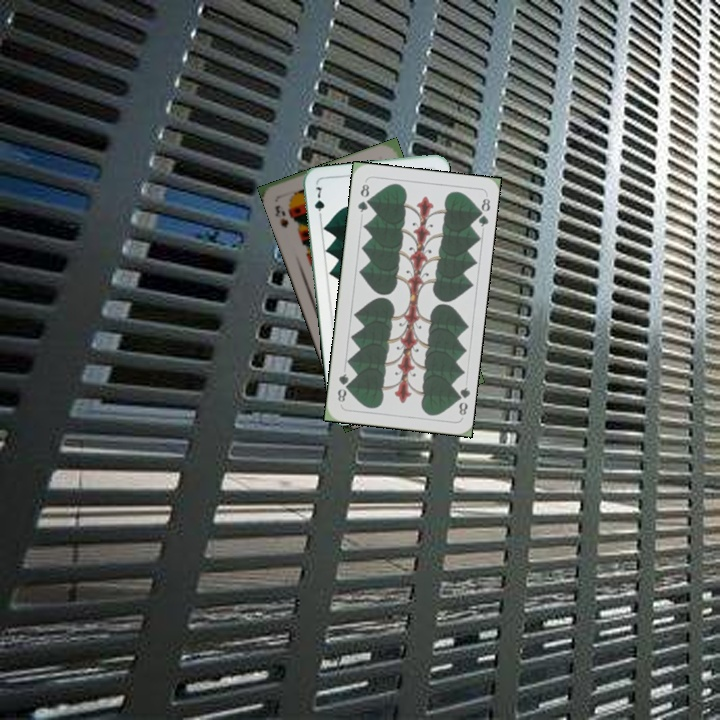G7: (310, 183, 327, 222)
G8: (451, 383, 472, 418), (353, 180, 372, 215)
S8: (271, 201, 291, 230)
